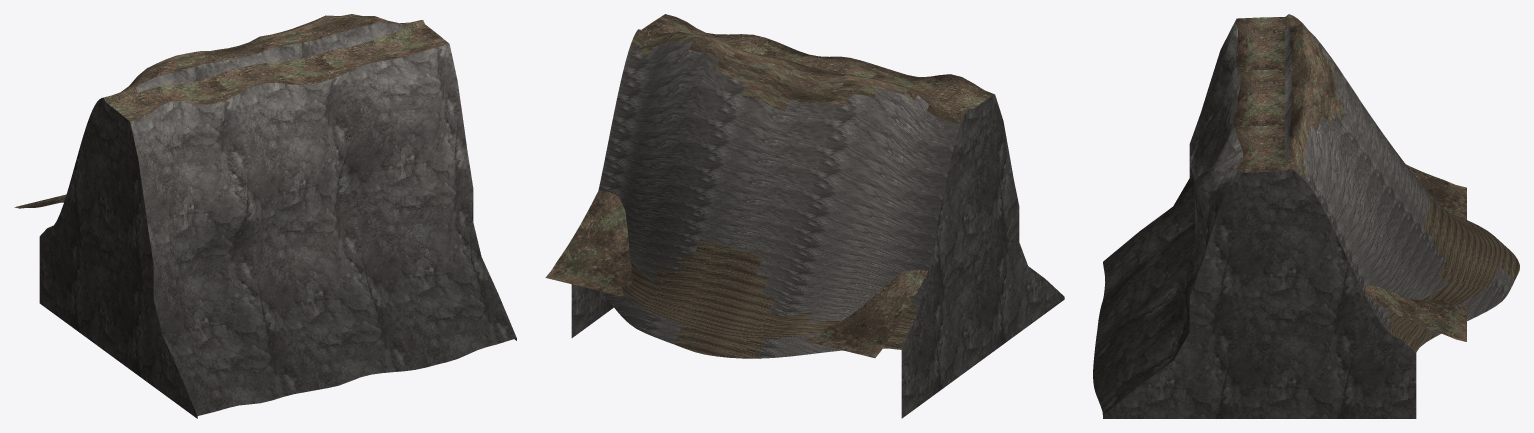
Rendered from seacliff_straight6b_h3_v5_autumn.glb.
3 renders of one model, left to right at view 1: azimuth 30°, elevation 25°; view 2: azimuth 150°, elevation 25°; view 3: azimuth 270°, elevation 25°, orthographic. The views are drawn at different scales.
Visible parts, largest first — view 1: seacliff_straight6b_h3; view 2: seacliff_straight6b_h3; view 3: seacliff_straight6b_h3.
Part boxes in pixels (x1,y1,x2,y2): seacliff_straight6b_h3: (14,14,516,418); seacliff_straight6b_h3: (545,14,1064,418); seacliff_straight6b_h3: (1093,14,1519,418).
Size of the model in its own units: 6 by 4.87 by 7.
2 materials, 2 textured.
